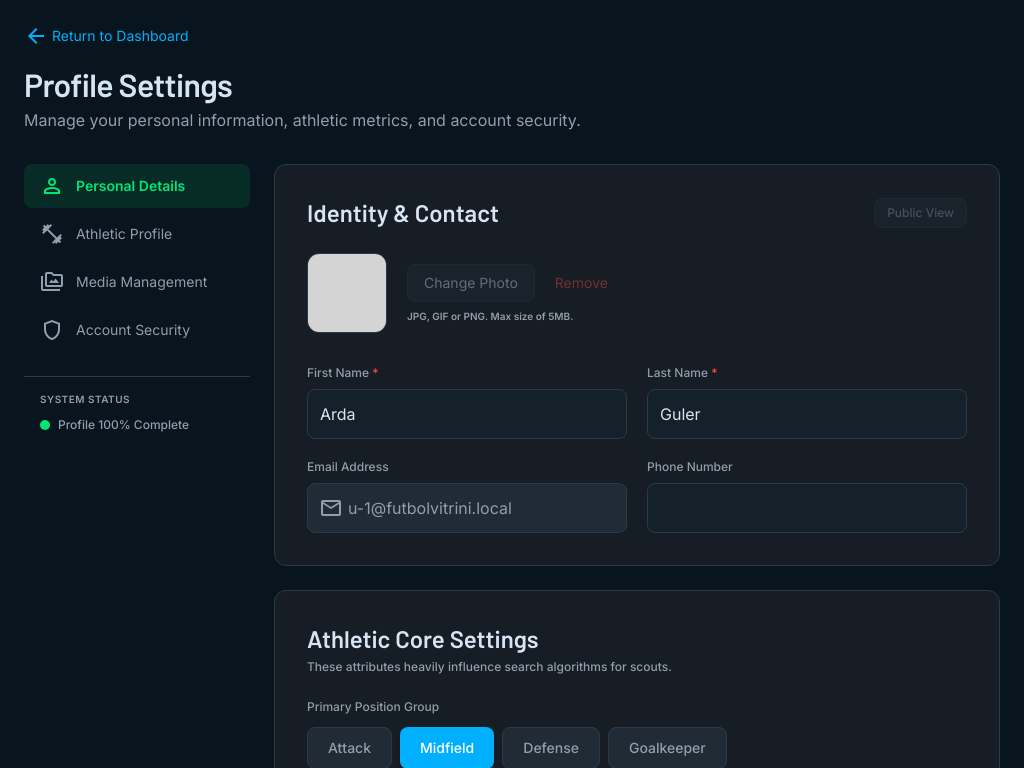
Test case: ProfileSettings › kisa yeni parolayi reddeder
This screenshot has width=1024, height=768.
Step 1. Click the button "Account Security" → (137, 330), box [24, 308, 250, 352]
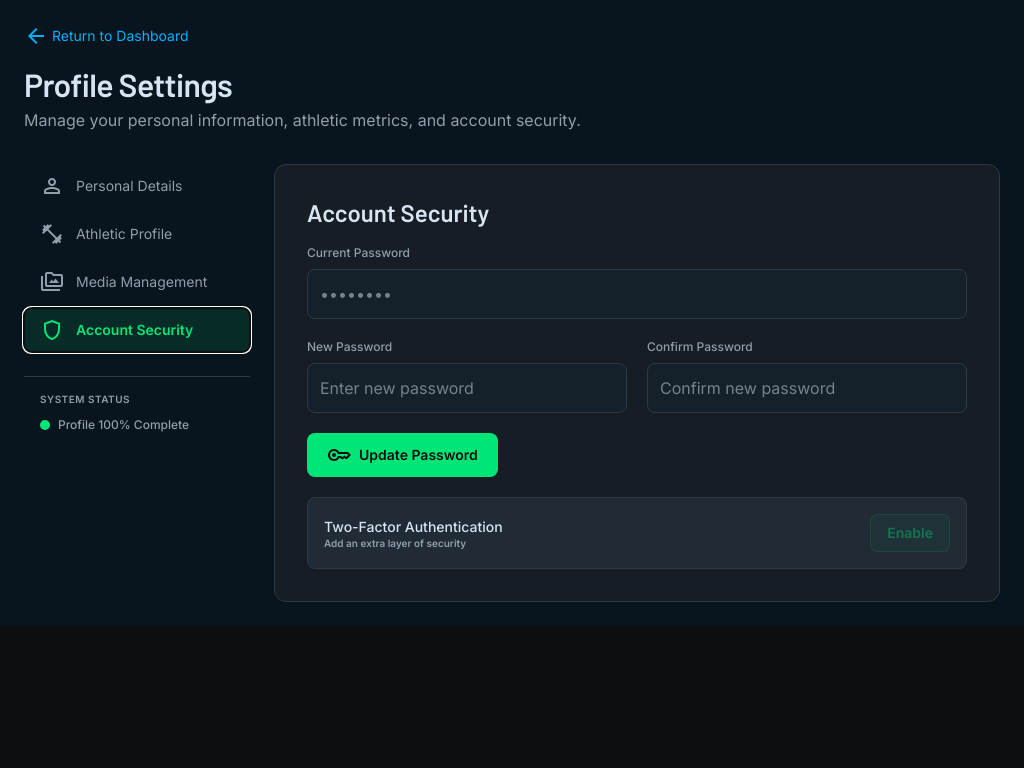
Step 2. Type "EskiParola1" into the password field labelled "Current Password" → (637, 294), box [307, 269, 967, 319]
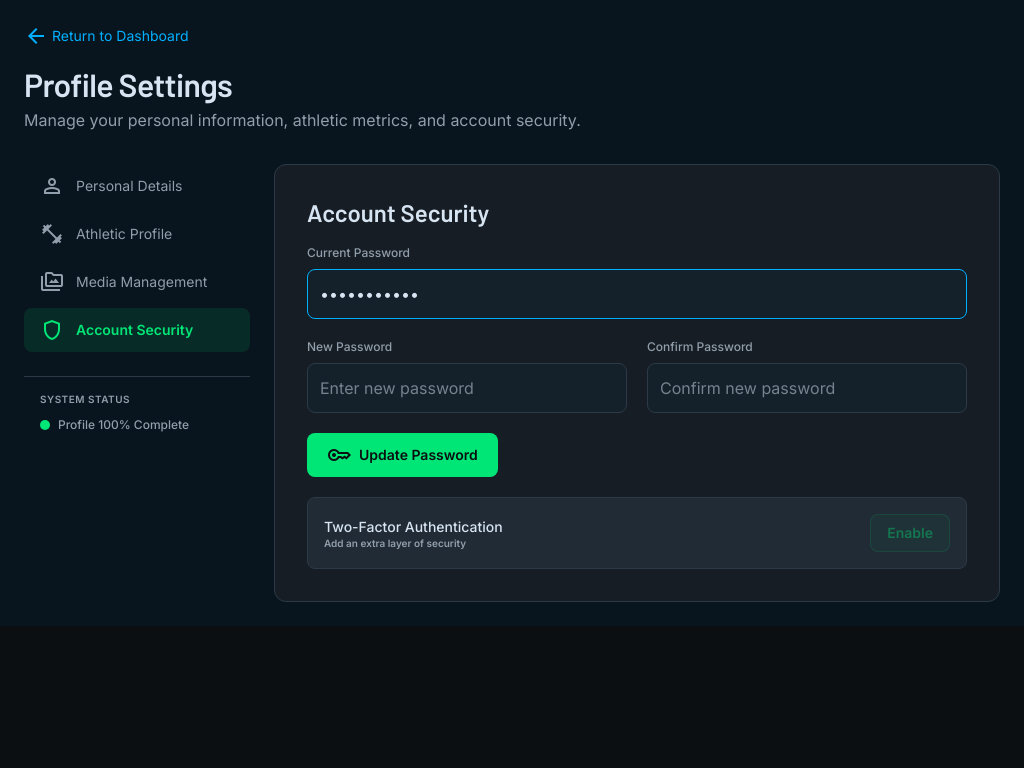
Step 3. Type "kisa" into the password field labelled "New Password" → (467, 388), box [307, 363, 627, 413]
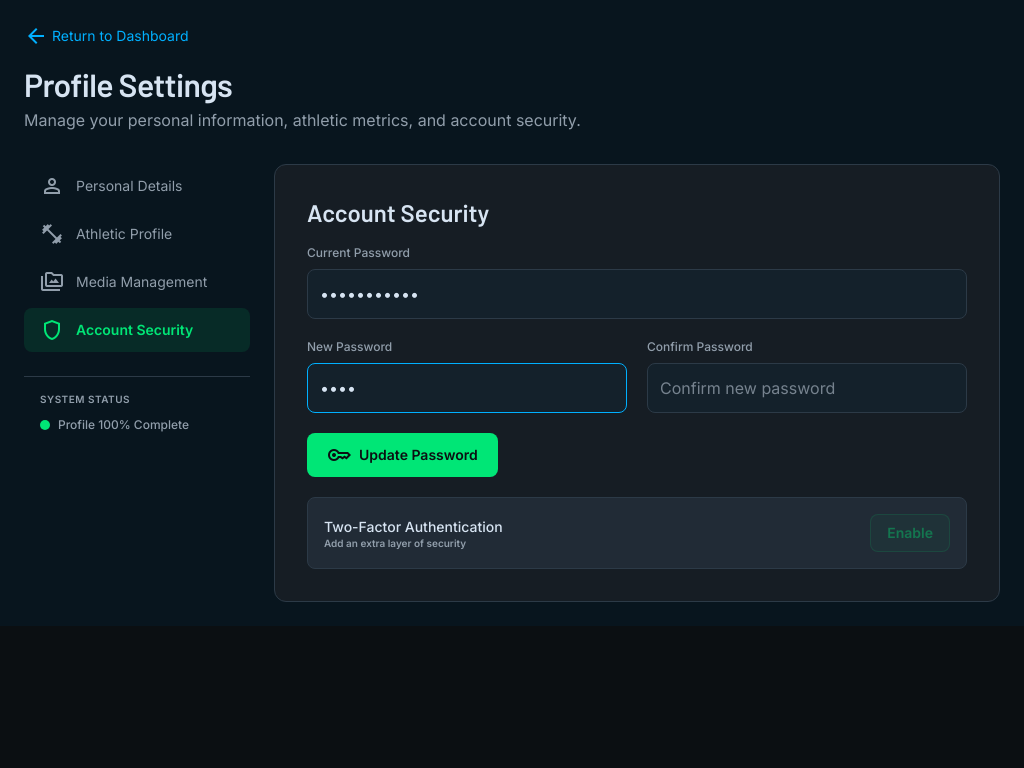
Step 4. Type "kisa" into the password field labelled "Confirm Password" → (807, 388), box [647, 363, 967, 413]
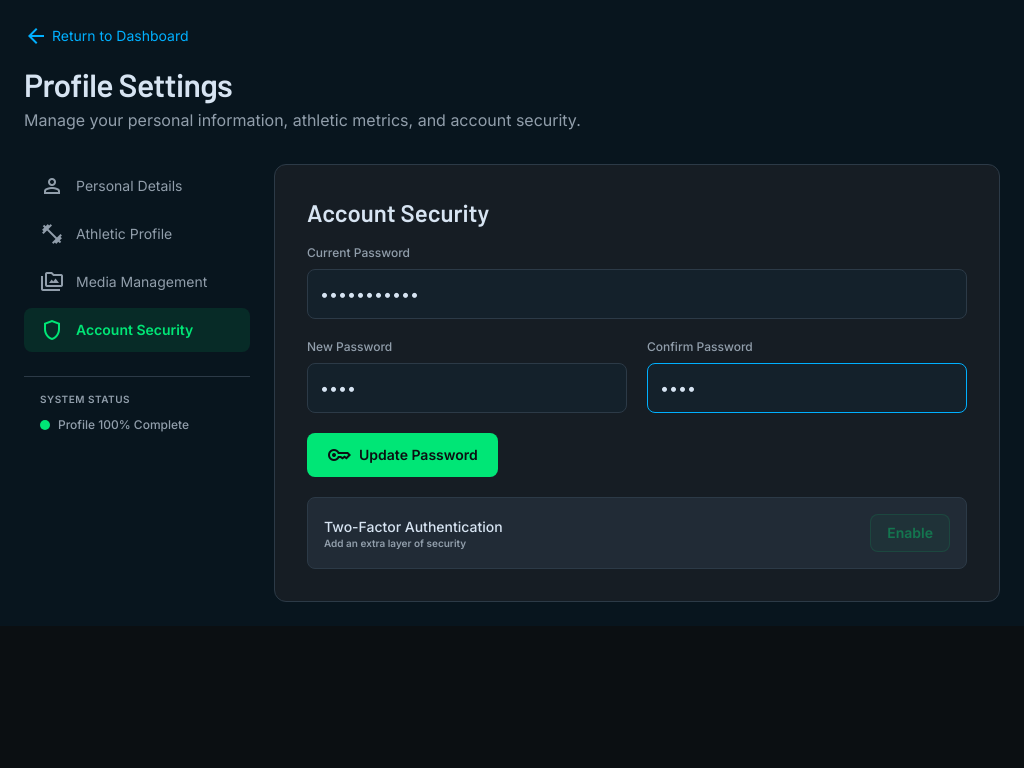
Step 5. Click the button "Update Password" → (402, 455), box [307, 433, 498, 477]
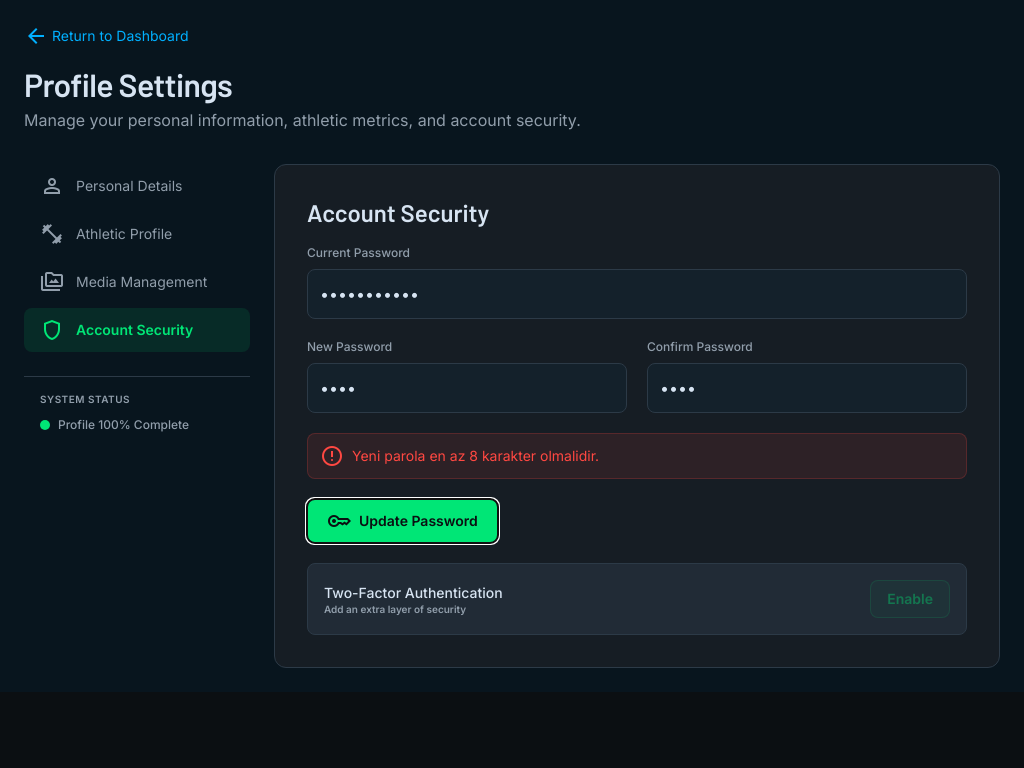
expect the message shows "en az 8": met, box [352, 447, 599, 464]
